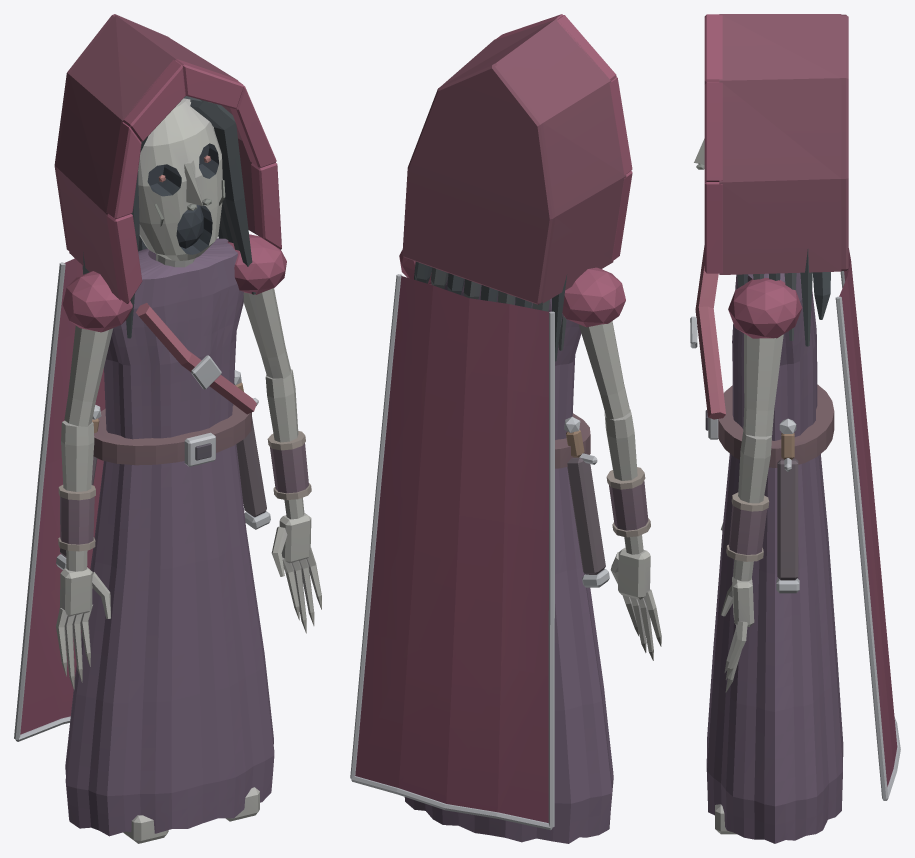
The model's file is SlendrinaAssassin.glb.
The picture shows the model from 3 angles, left to right: view 1: azimuth 30°, elevation 25°; view 2: azimuth 150°, elevation 25°; view 3: azimuth 270°, elevation 25°; orthographic projection.
Parts seen in each view (by area): view 1: Body, Head, ArmR, ArmL, LegR; view 2: Body, Head, ArmR; view 3: Body, Head, ArmL.
Part boxes in pixels (x1,y1,x2,y2): Body: (14, 238, 274, 836); Head: (54, 14, 281, 338); ArmR: (56, 271, 132, 689); ArmL: (227, 234, 321, 633); LegR: (123, 815, 168, 843); Body: (350, 269, 613, 843); Head: (402, 14, 632, 361); ArmR: (562, 267, 661, 660); Body: (690, 245, 900, 843); Head: (694, 14, 848, 346); ArmL: (721, 278, 802, 692).
Size of the model in its own units: 2.44 by 6.98 by 1.71.
